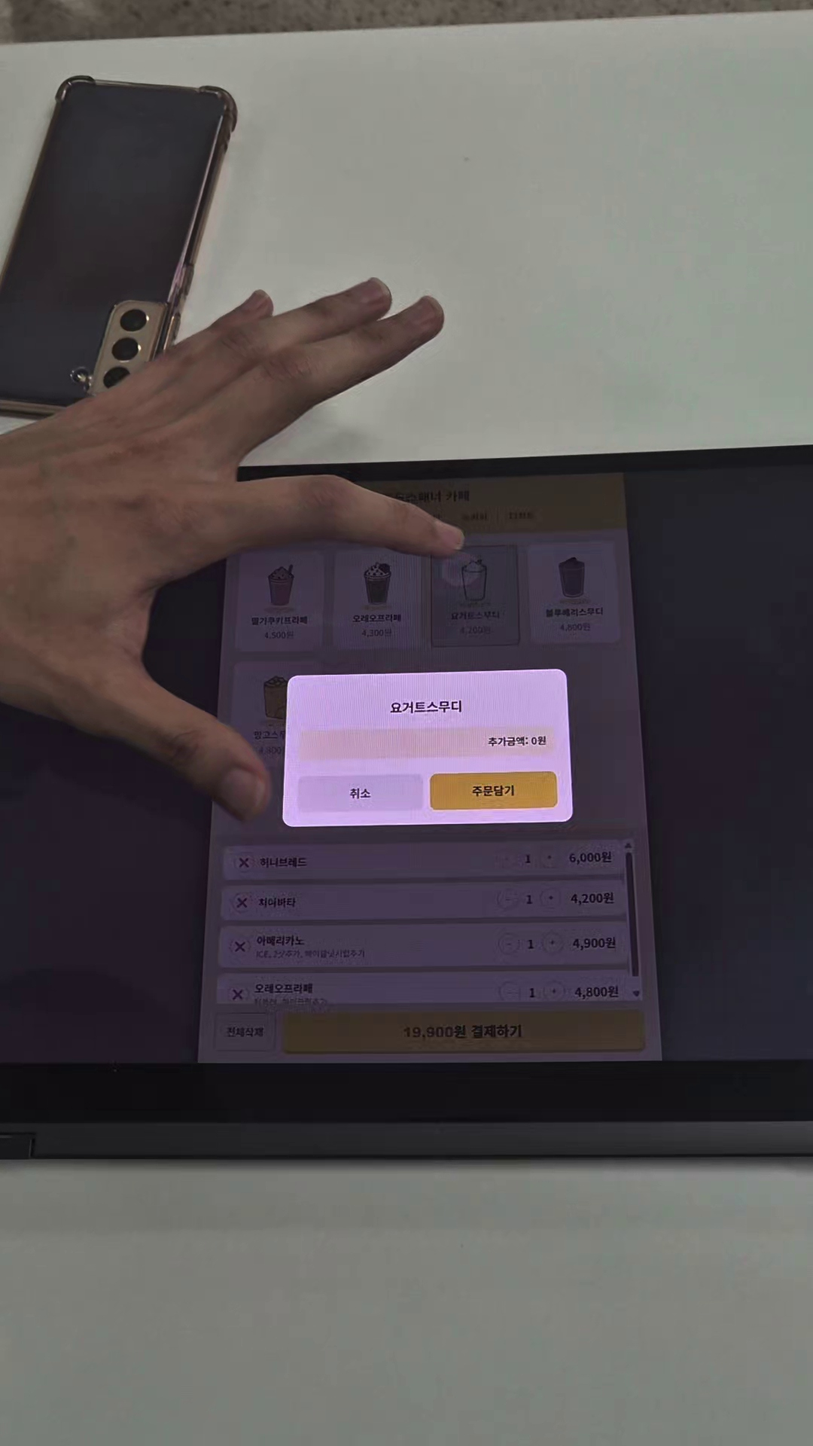action_button: (283, 1011, 646, 1054), (430, 771, 558, 812), (297, 774, 423, 813), (214, 1012, 276, 1052)
cart_item: (219, 924, 626, 967), (223, 841, 624, 880), (222, 882, 625, 918), (218, 970, 626, 1005)
menu_back: (429, 546, 517, 646), (529, 544, 617, 643), (334, 548, 421, 647), (238, 549, 325, 648)
popup_modal: (283, 667, 572, 825)
